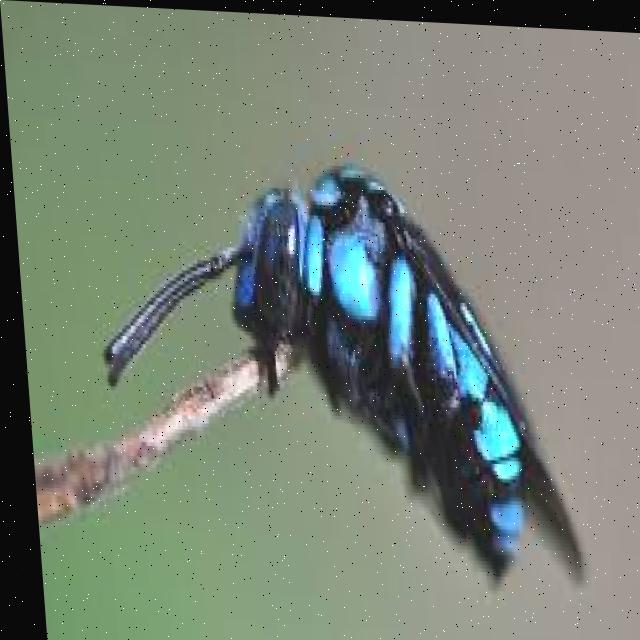Thyreus: (92, 129, 612, 605)
